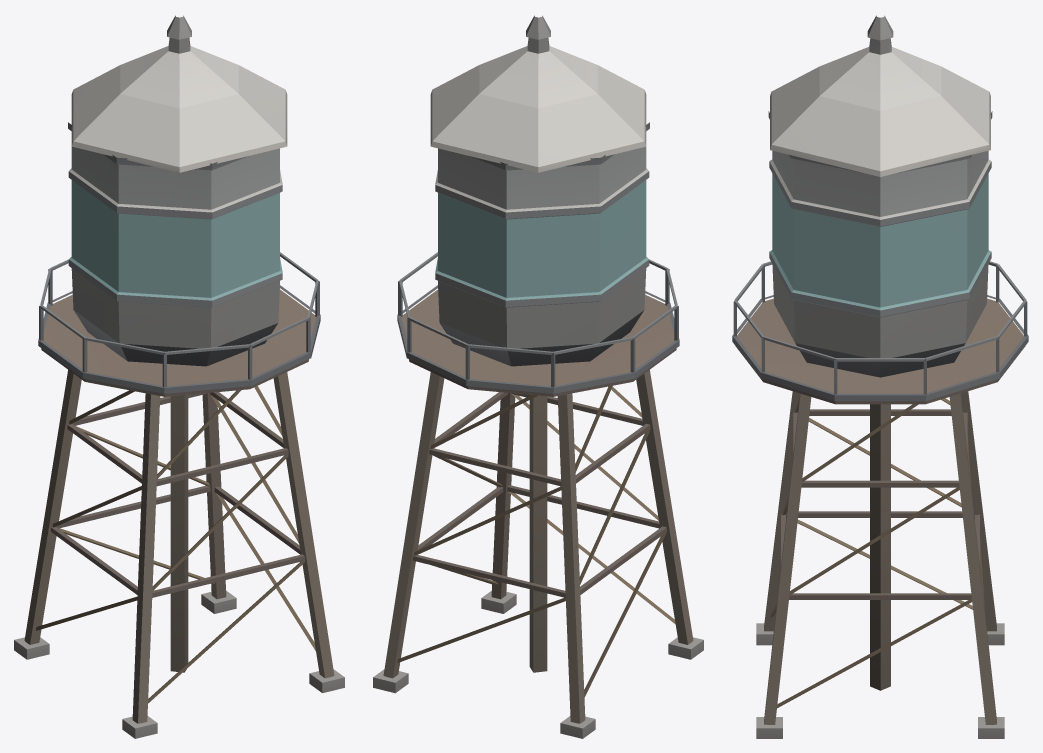
Rendered from tower.lod1.glb.
3 views of the same model, side by side, from view 1: azimuth 30°, elevation 25°; view 2: azimuth 150°, elevation 25°; view 3: azimuth 270°, elevation 25° (orthographic). The views are drawn at different scales.
Size of the model in its own units: 7.62 by 20 by 8.01.
